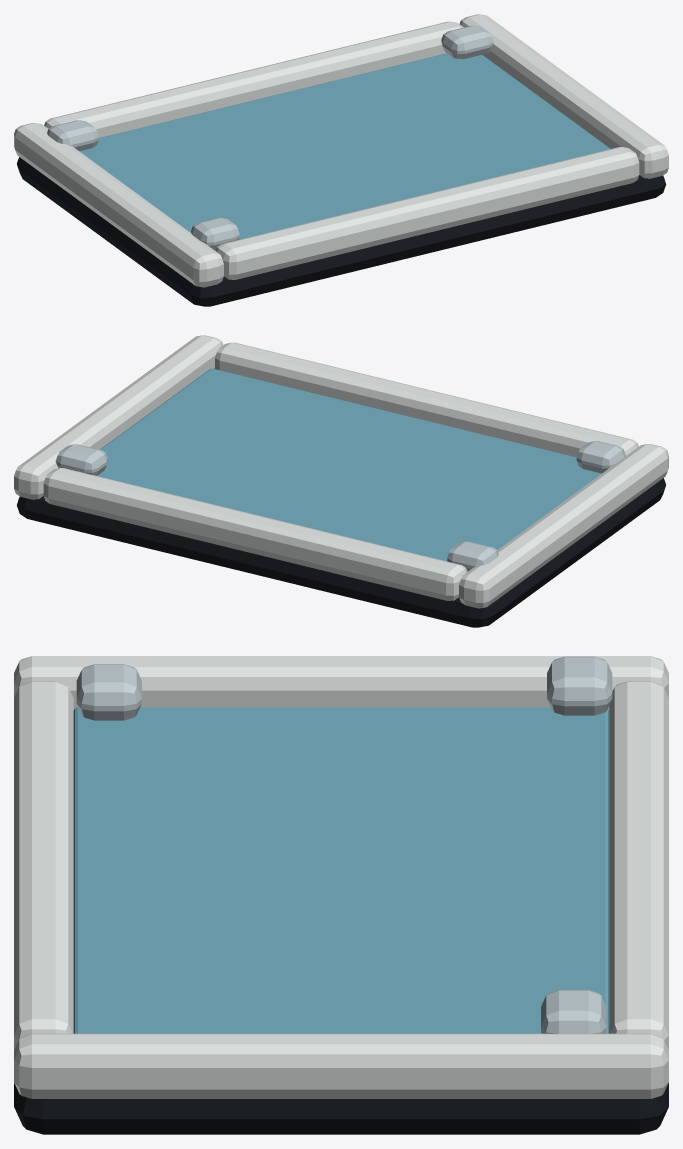
File: edited.glb
3 views of the same model, one above another, from view 1: azimuth 30°, elevation 25°; view 2: azimuth 150°, elevation 25°; view 3: azimuth 270°, elevation 25° (orthographic). The views are drawn at different scales.
Visible parts, largest first — view 1: WATER, SHORE_Short, BASIN, SHORE_Short.001, SHORE_Long, SHORE_Long.001, BANK_Stone.002, BANK_Stone.001, BANK_Stone; view 2: WATER, SHORE_Short.001, BASIN, SHORE_Short, SHORE_Long, SHORE_Long.001, BANK_Stone.002, BANK_Stone, BANK_Stone.001; view 3: WATER, SHORE_Long.001, SHORE_Long, BASIN, SHORE_Short, SHORE_Short.001, BANK_Stone.001, BANK_Stone, BANK_Stone.002.
Boxes of the visible parts, box(x1,y1,x2,y2) form: WATER: box(79, 53, 610, 250); SHORE_Short: box(215, 147, 639, 279); BASIN: box(17, 157, 666, 306); SHORE_Short.001: box(44, 21, 463, 137); SHORE_Long: box(14, 123, 223, 287); SHORE_Long.001: box(459, 14, 668, 178); BANK_Stone.002: box(441, 25, 493, 59); BANK_Stone.001: box(47, 120, 98, 151); BANK_Stone: box(191, 218, 239, 250); WATER: box(97, 368, 601, 561); SHORE_Short.001: box(43, 468, 467, 600); BASIN: box(16, 478, 665, 627); SHORE_Short: box(215, 342, 638, 457); SHORE_Long: box(459, 444, 668, 608); SHORE_Long.001: box(14, 335, 223, 499); BANK_Stone.002: box(55, 444, 107, 475); BANK_Stone: box(576, 441, 625, 473); BANK_Stone.001: box(447, 541, 498, 571); WATER: box(73, 707, 609, 1033); SHORE_Long.001: box(14, 1033, 668, 1098); SHORE_Long: box(14, 656, 668, 710); BASIN: box(14, 1083, 668, 1134); SHORE_Short: box(14, 681, 73, 1049); SHORE_Short.001: box(609, 681, 668, 1049); BANK_Stone.001: box(547, 656, 612, 715); BANK_Stone: box(76, 664, 141, 720); BANK_Stone.002: box(541, 990, 606, 1033).
Bounding box in the file's own units: 3.2 × 0.4 × 2.2.
